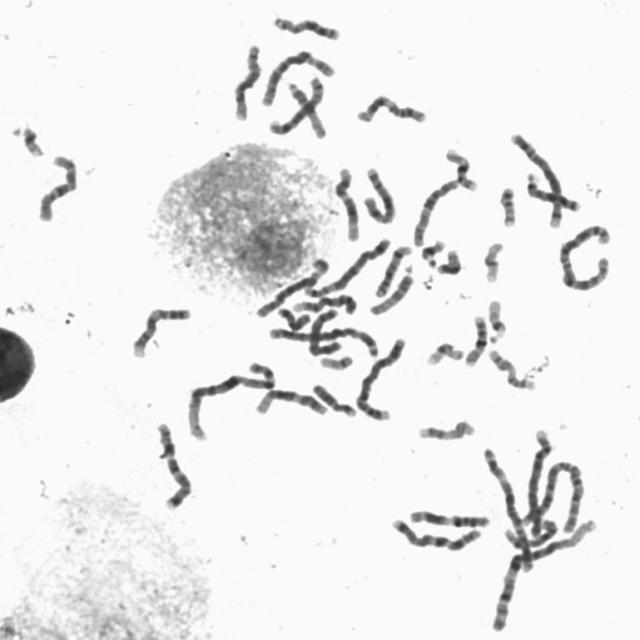A1: (487, 514, 601, 634), (182, 356, 280, 442)
A2: (520, 456, 588, 534), (555, 217, 616, 292)
A3: (479, 441, 538, 575), (264, 321, 382, 359)
B4: (351, 332, 410, 422), (522, 423, 557, 532)
B5: (505, 128, 569, 228), (301, 232, 393, 300)
C10: (409, 174, 462, 248), (34, 148, 82, 224)
C11: (352, 89, 430, 125), (406, 504, 494, 530)
C12: (252, 384, 332, 418), (331, 162, 363, 243)
C6: (256, 43, 338, 108), (252, 253, 332, 319)
C7: (150, 417, 194, 511), (386, 512, 486, 553)
C8: (264, 70, 327, 137), (228, 38, 265, 122)
C9: (128, 301, 195, 359), (290, 293, 358, 318)
D13: (522, 167, 584, 213), (271, 13, 344, 42)
D14: (371, 238, 415, 298), (300, 309, 350, 358)
D15: (282, 76, 330, 140), (366, 266, 417, 317)
E16: (441, 142, 481, 192), (460, 309, 490, 368)
E17: (484, 343, 540, 392), (414, 413, 478, 442)
E18: (308, 378, 359, 419), (272, 302, 313, 331)
F19: (423, 336, 467, 367), (479, 236, 507, 284)
F20: (496, 180, 521, 228), (435, 248, 467, 278)
G21: (12, 118, 48, 158), (417, 234, 449, 267)
G22: (480, 299, 510, 347), (316, 350, 356, 371)
X: (356, 166, 405, 227), (502, 518, 558, 550)
